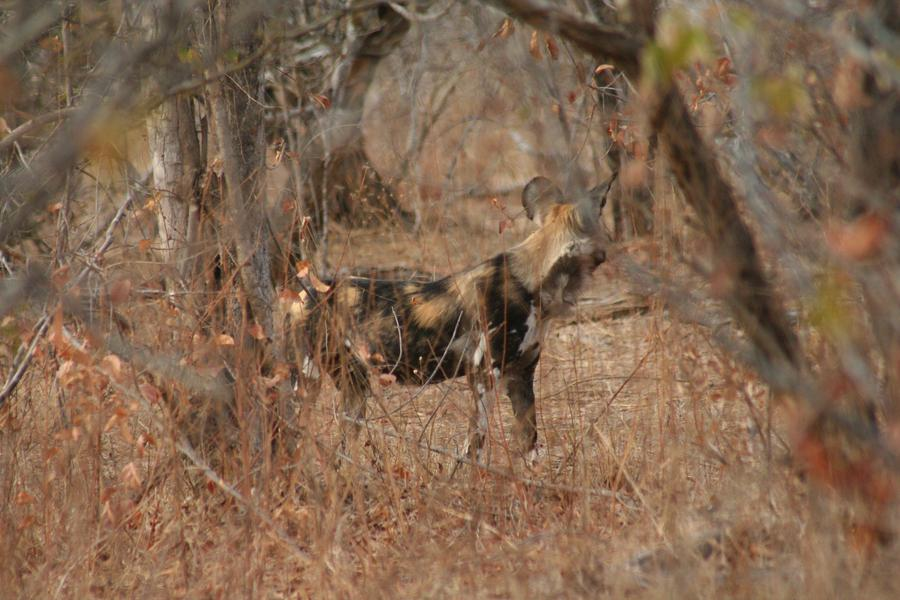wilddog: (279, 167, 616, 394)
